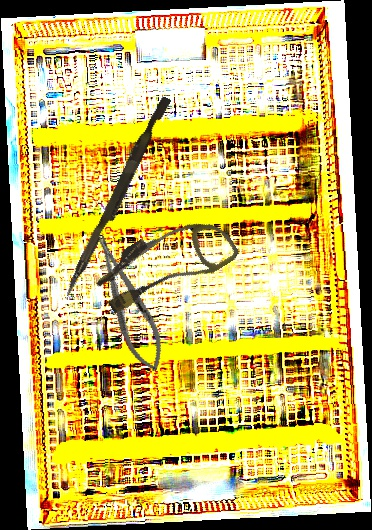Cannula: (88, 198, 242, 329)
Needle Holder: (84, 229, 173, 377)
Pusher: (63, 93, 172, 301)
